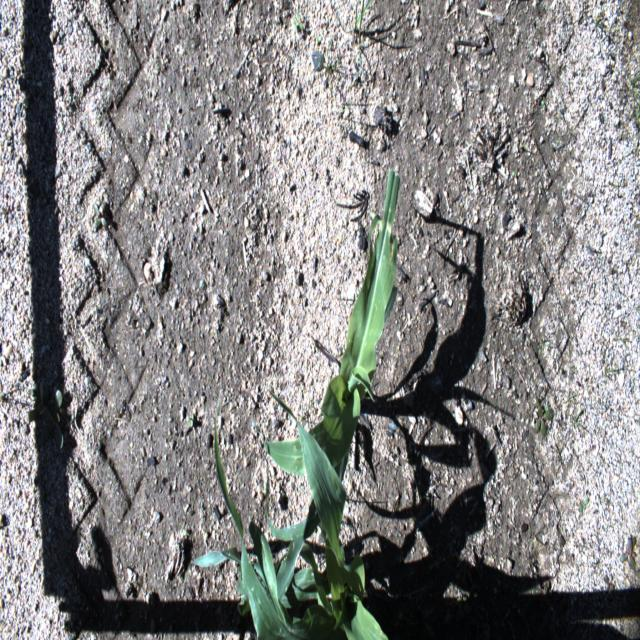crop: (252, 168, 401, 542), (183, 393, 389, 639)
weed: (28, 380, 64, 450), (350, 0, 372, 86), (336, 188, 369, 222), (322, 35, 337, 97), (532, 397, 553, 438), (626, 101, 640, 157), (93, 197, 109, 234), (621, 533, 636, 571), (592, 6, 609, 34), (290, 10, 304, 32), (531, 580, 548, 598), (627, 72, 639, 97), (64, 414, 75, 436), (579, 499, 589, 516), (455, 595, 470, 603), (541, 98, 546, 112), (315, 36, 323, 44), (188, 417, 193, 429), (511, 170, 517, 177)
